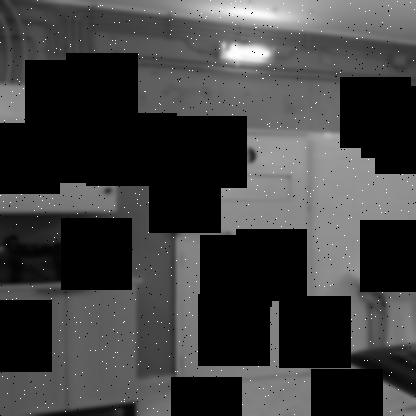Porte: (170, 124, 316, 388)
